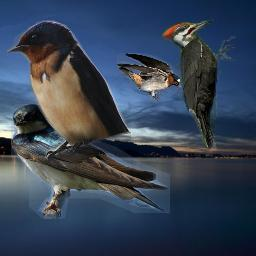Swallow: (11, 104, 170, 219), (7, 20, 131, 163), (117, 53, 181, 101)
Woodpecker: (161, 19, 236, 151)
